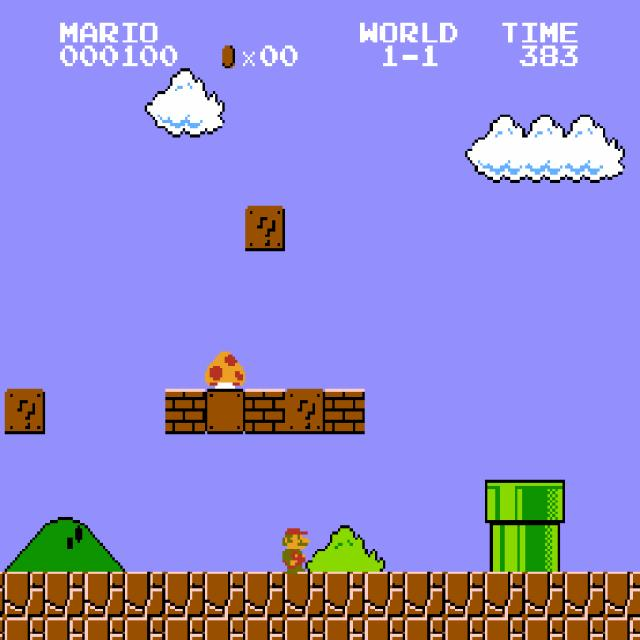brick_block: (165, 389, 205, 434), (245, 389, 285, 434), (325, 389, 365, 434)
empty_block: (205, 389, 245, 434)
little_mario: (273, 526, 315, 574)
mushroom: (203, 349, 245, 391)
mystery_block: (5, 389, 45, 434), (245, 206, 285, 251), (285, 389, 325, 434)
pipe: (485, 526, 525, 571), (525, 526, 565, 571)
pipe_head: (485, 480, 525, 526), (525, 480, 565, 526)
undestructible_block: (5, 572, 45, 617), (45, 572, 85, 617), (85, 572, 125, 617), (125, 572, 165, 617), (165, 572, 205, 617), (205, 572, 245, 617), (245, 572, 285, 617), (285, 572, 325, 617), (325, 572, 365, 617), (365, 572, 405, 617), (405, 572, 445, 617), (445, 572, 485, 617), (485, 572, 525, 617), (525, 572, 565, 617), (565, 572, 605, 617), (605, 572, 640, 617), (5, 617, 45, 640), (45, 617, 85, 640), (85, 617, 125, 640), (125, 617, 165, 640), (165, 617, 205, 640), (205, 617, 245, 640), (245, 617, 285, 640), (285, 617, 325, 640), (325, 617, 365, 640), (365, 617, 405, 640), (405, 617, 445, 640), (445, 617, 485, 640), (485, 617, 525, 640), (525, 617, 565, 640), (565, 617, 605, 640), (605, 617, 640, 640), (0, 572, 5, 617), (0, 617, 5, 640)
